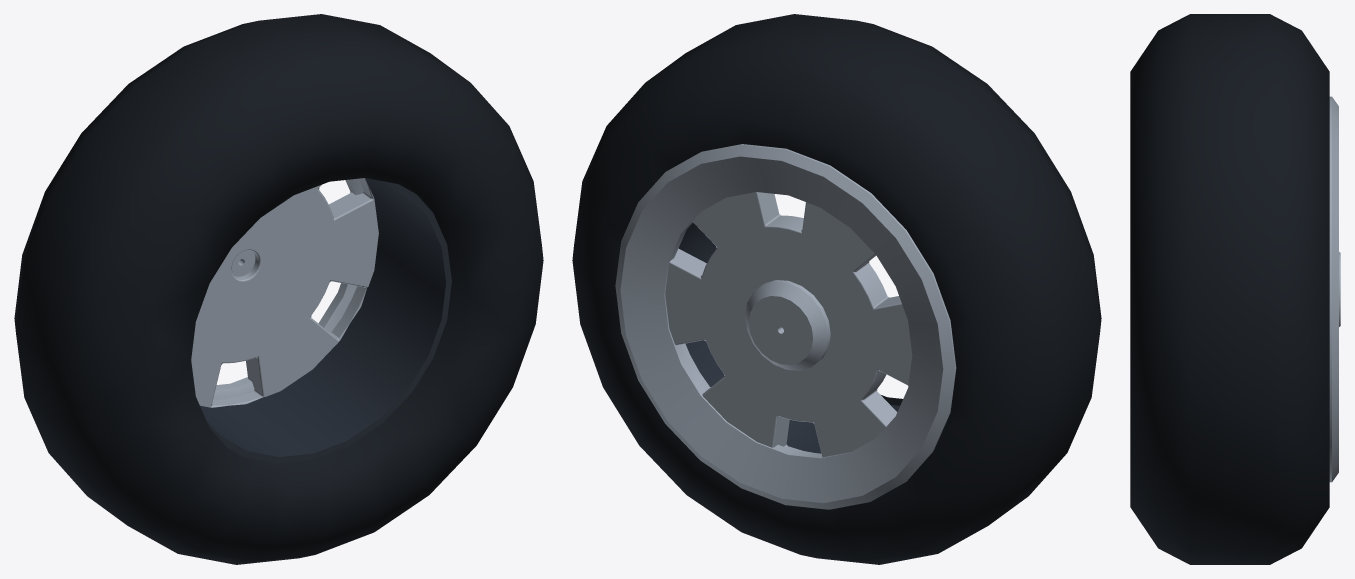
3 views of the same model, side by side, from view 1: azimuth 30°, elevation 25°; view 2: azimuth 150°, elevation 25°; view 3: azimuth 270°, elevation 25° (orthographic).
Visible parts, largest first — view 1: W06_Tire, W06_Rim_barrel, W06_Aero_vented_disc, W06_Rim_outer_lip; view 2: W06_Tire, W06_Rim_outer_lip, W06_Aero_vented_disc, W06_Axle_cap, W06_Rim_barrel; view 3: W06_Tire, W06_Rim_outer_lip.
Part boxes in pixels (left/top/right/bottom): W06_Tire: left=14, top=14, right=543, bottom=564; W06_Rim_barrel: left=200, top=178, right=451, bottom=463; W06_Aero_vented_disc: left=191, top=178, right=378, bottom=407; W06_Rim_outer_lip: left=213, top=178, right=363, bottom=399; W06_Tire: left=572, top=14, right=1101, bottom=564; W06_Rim_outer_lip: left=615, top=144, right=956, bottom=509; W06_Aero_vented_disc: left=665, top=192, right=912, bottom=457; W06_Axle_cap: left=745, top=280, right=830, bottom=370; W06_Rim_barrel: left=678, top=222, right=899, bottom=453; W06_Tire: left=1130, top=14, right=1329, bottom=564; W06_Rim_outer_lip: left=1329, top=96, right=1338, bottom=482.
Bounding box in the file's own units: 3.05 × 3.05 × 1.16.
